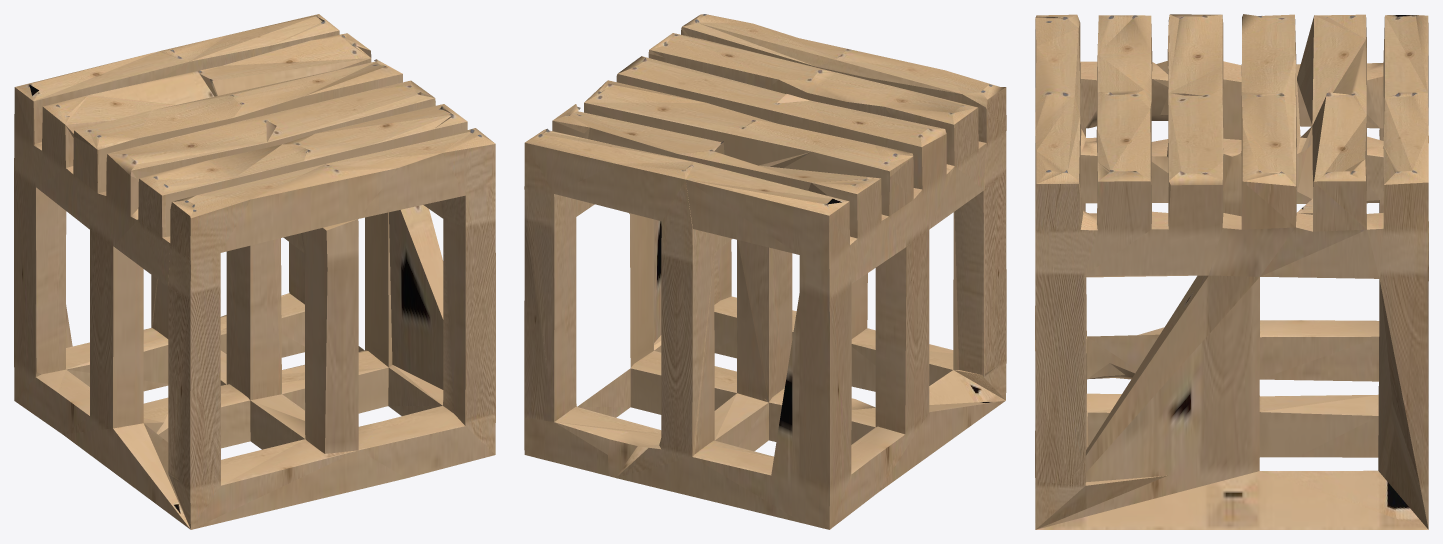
3 views of the same model, side by side, from view 1: azimuth 30°, elevation 25°; view 2: azimuth 150°, elevation 25°; view 3: azimuth 270°, elevation 25° (orthographic). The views are drawn at different scales.
Parts seen in each view (by area): view 1: wood-pallet; view 2: wood-pallet; view 3: wood-pallet.
Part boxes in pixels (<box>): wood-pallet: <box>14,14,495,529</box>; wood-pallet: <box>524,14,1006,529</box>; wood-pallet: <box>1035,14,1428,529</box>.
Bounding box in the file's own units: 1 × 1 × 1.
Materials: 1 (1 with a texture image).
